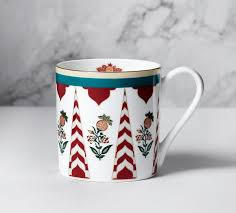mug: (31, 43, 209, 197)
